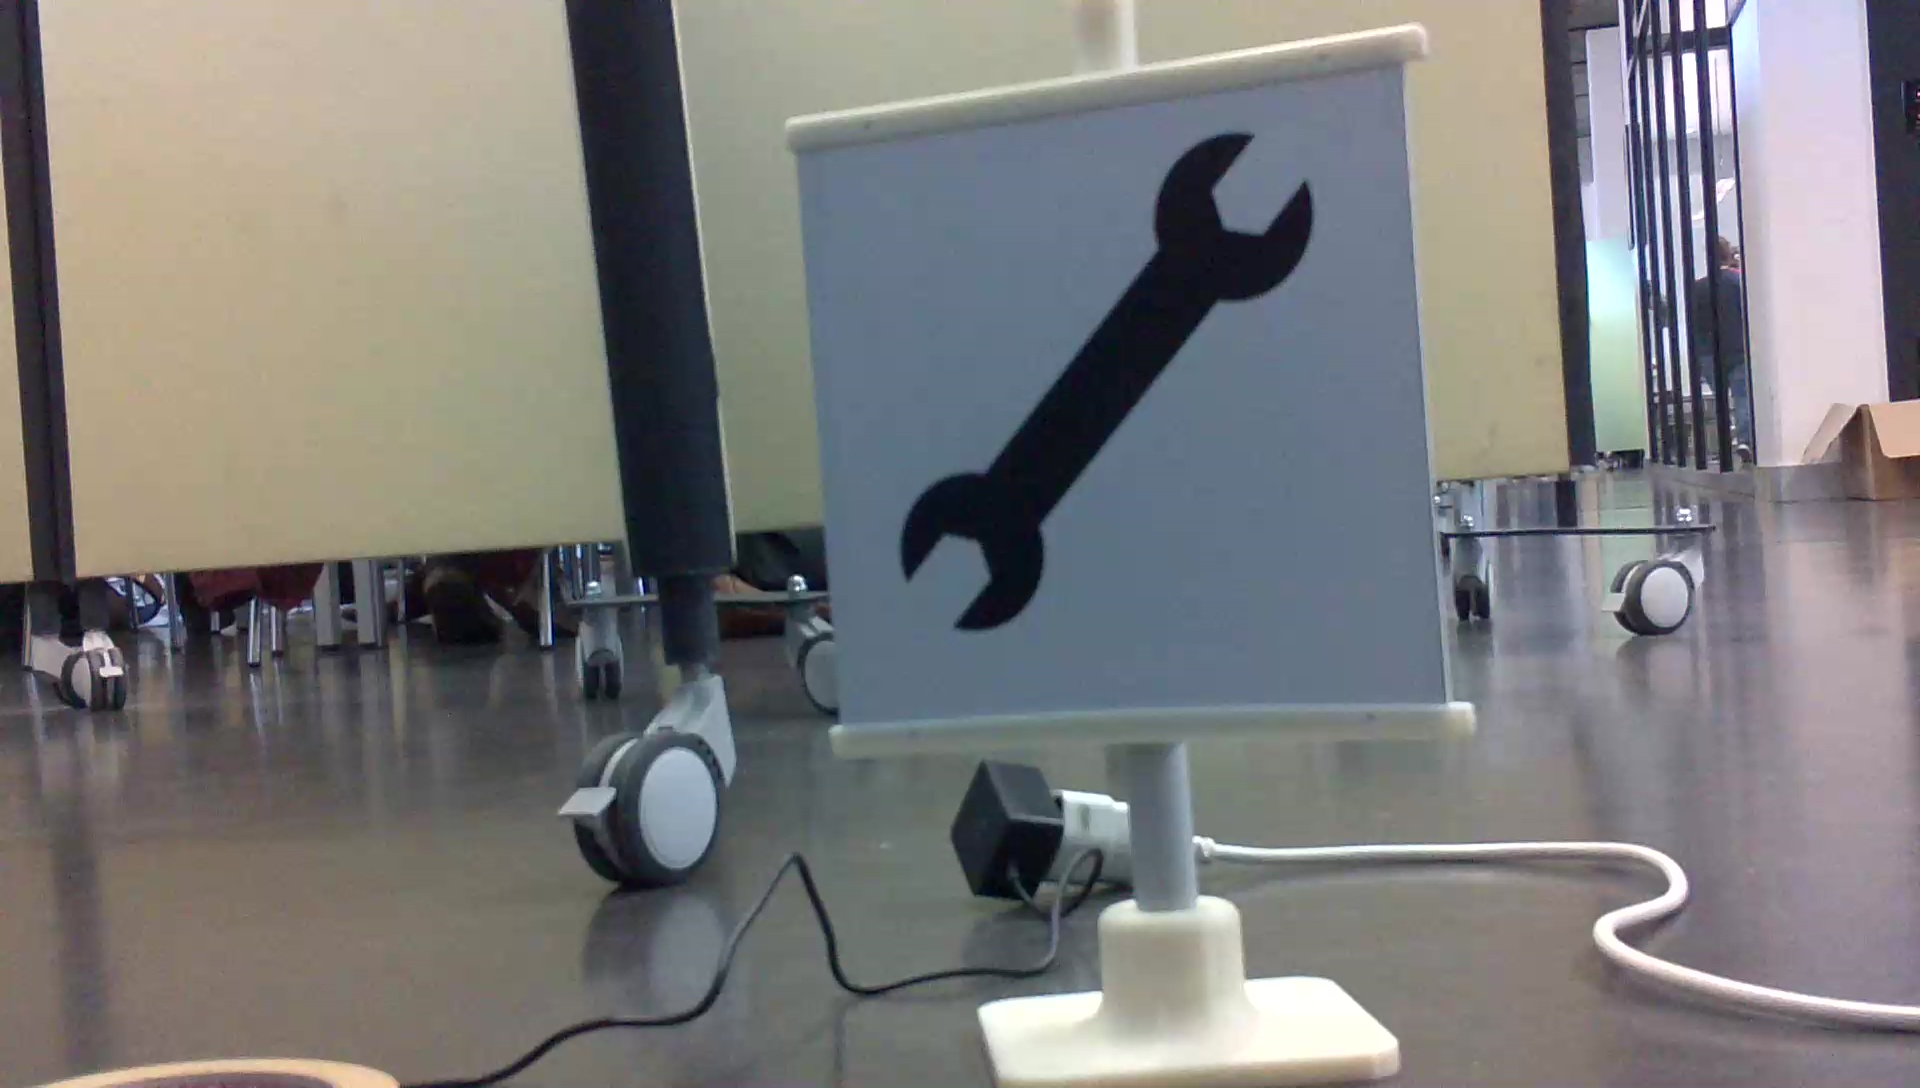wrench: (893, 123, 1317, 642)
